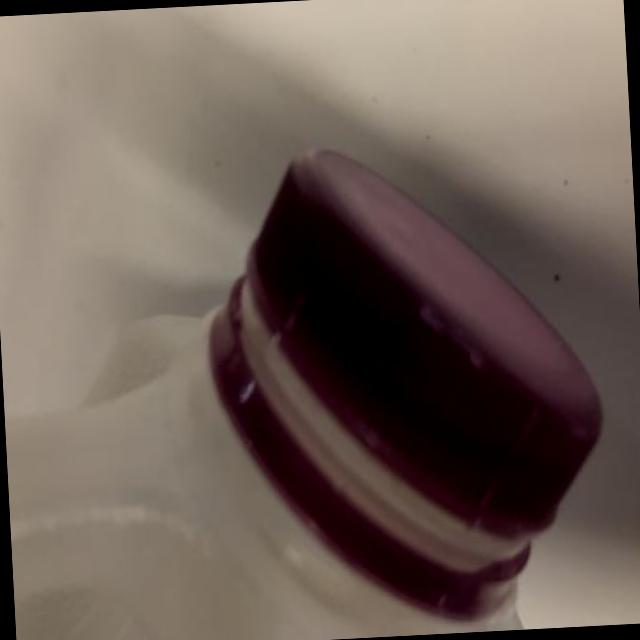Recycle: (0, 131, 615, 640)
